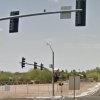Traffic light: (5, 7, 25, 35)
